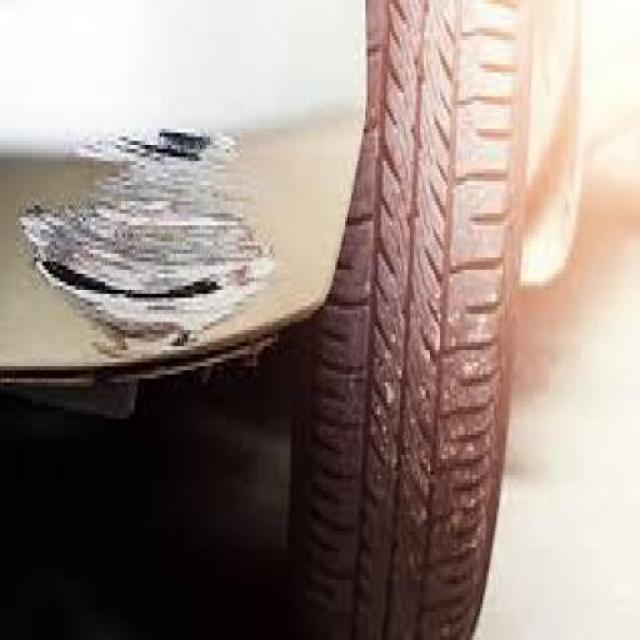scratch: (22, 117, 277, 358)
